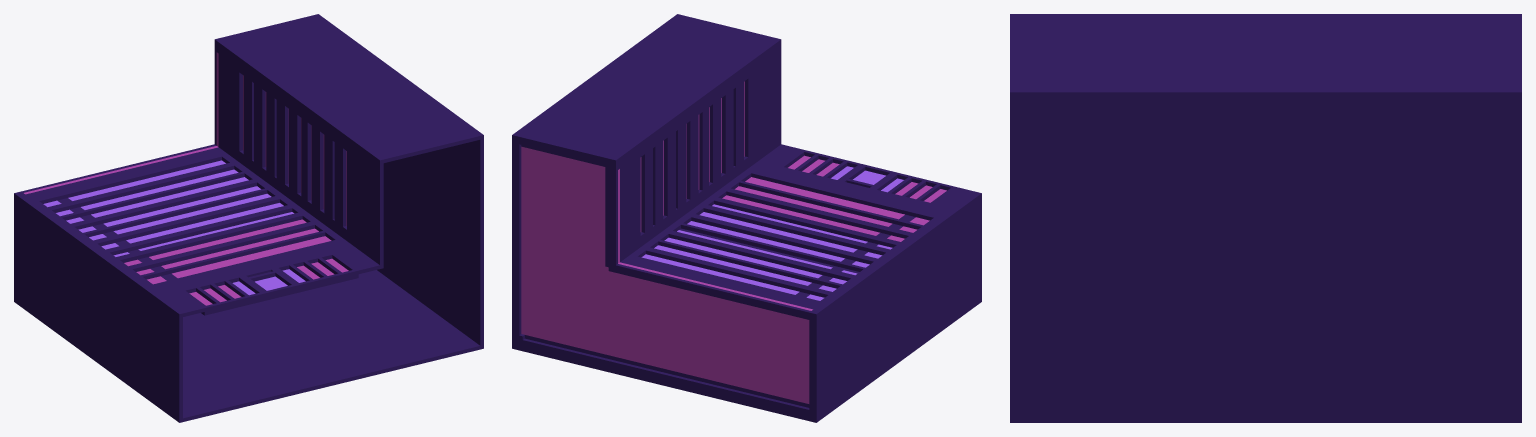
Rendered from building1.obj.
3 views of the same model, side by side, from view 1: azimuth 30°, elevation 25°; view 2: azimuth 150°, elevation 25°; view 3: azimuth 270°, elevation 25° (orthographic). The views are drawn at different scales.
Size of the model in its own units: 8.5 by 5.7 by 8.
Materials: 1 (1 with a texture image).
